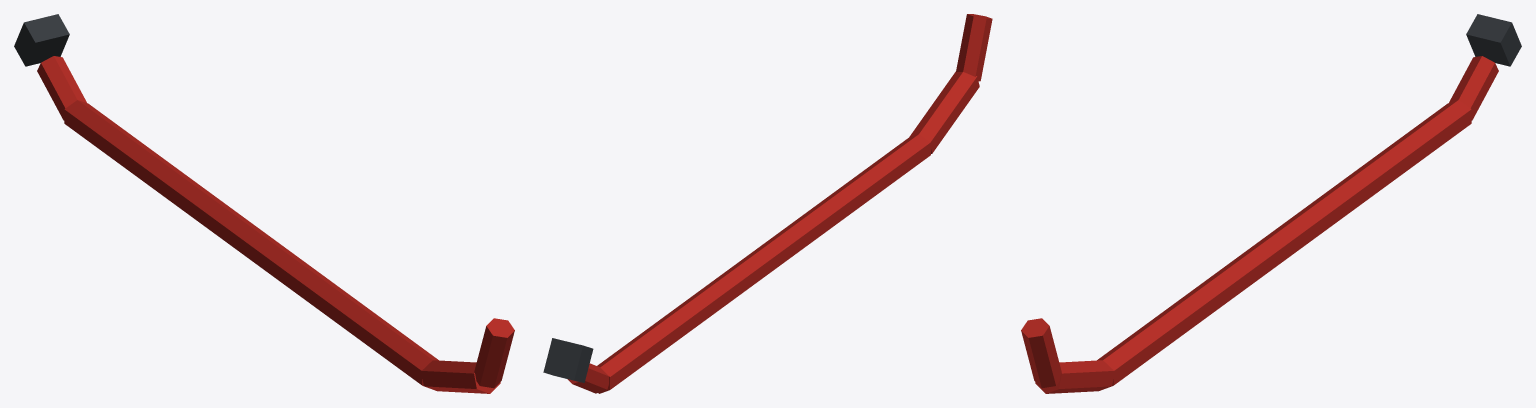
Rendered from WPN_Crowbar.fbx.
3 renders of one model, left to right at view 1: azimuth 30°, elevation 25°; view 2: azimuth 150°, elevation 25°; view 3: azimuth 330°, elevation 25°, orthographic. The views are drawn at different scales.
Parts seen in each view (by area): view 1: WPN_Crowbar__BODY; view 2: WPN_Crowbar__BODY; view 3: WPN_Crowbar__BODY.
Part boxes in pixels (x1,y1,x2,y2): WPN_Crowbar__BODY: (14,14,514,393); WPN_Crowbar__BODY: (543,14,992,393); WPN_Crowbar__BODY: (1021,14,1521,393).
Size of the model in its own units: 0.03 by 0.0961 by 0.7184.
